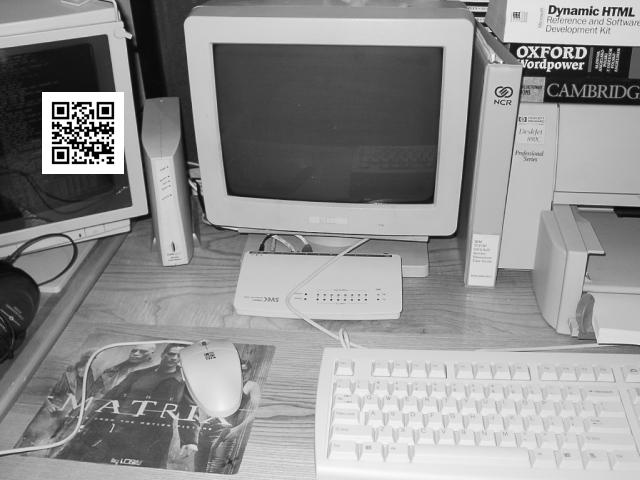qr_code: (41, 90, 123, 171)
